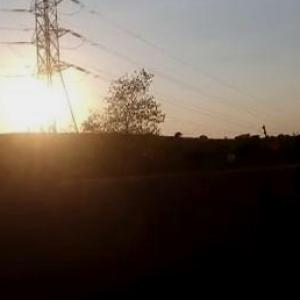follow: (272, 160, 299, 299)
